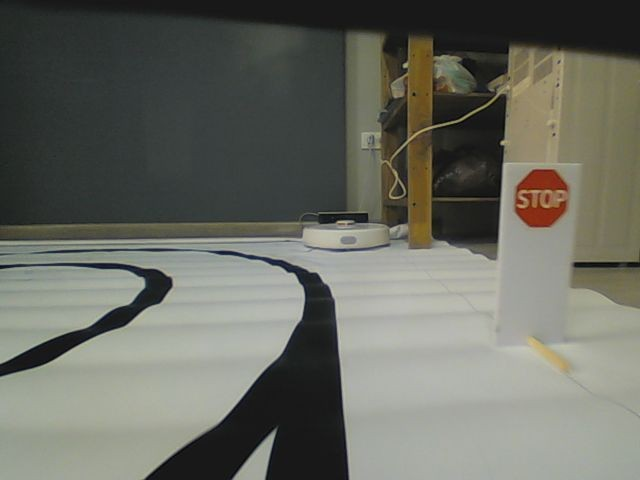Stop: (512, 167, 572, 230)
